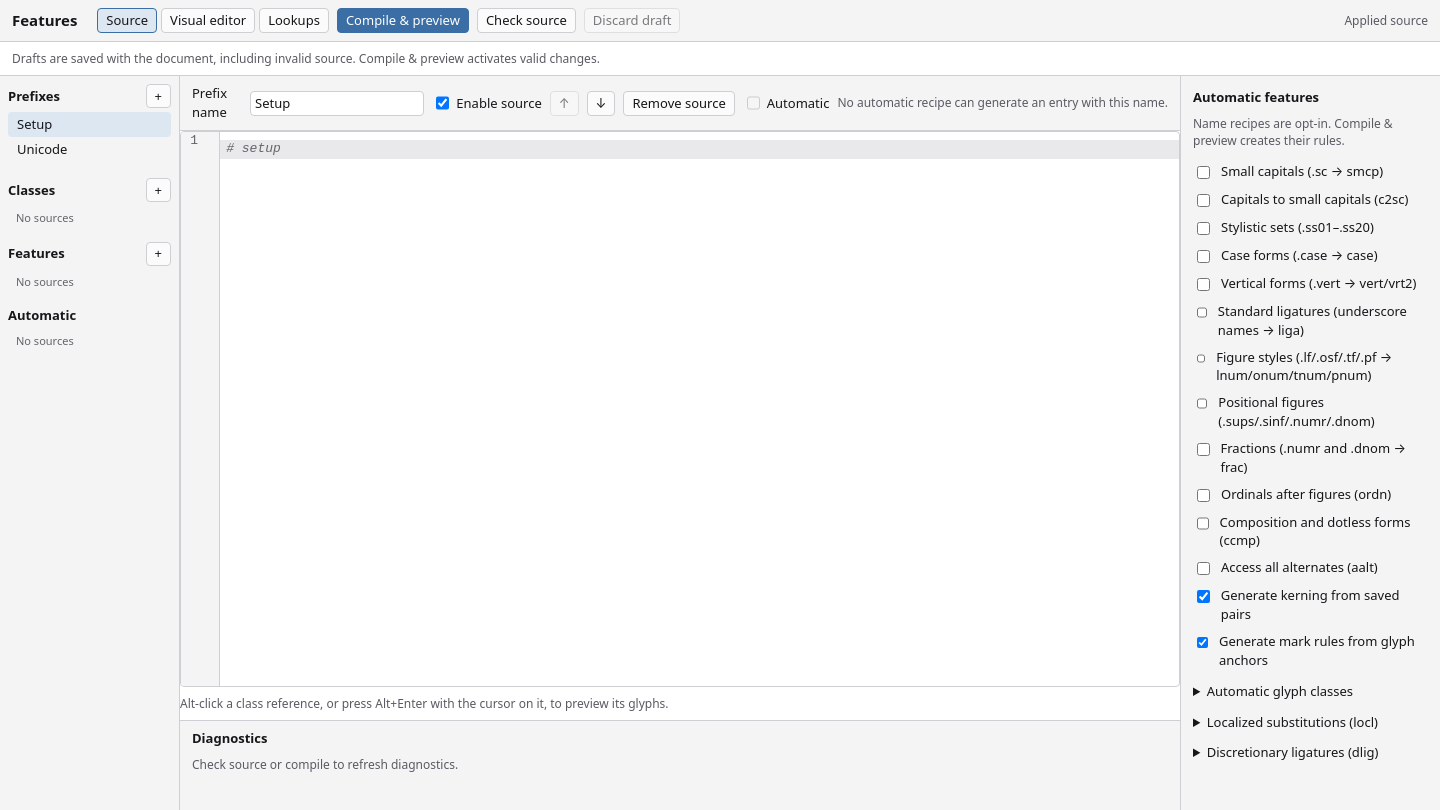
Scenario: FeaturesView › shows generated validation source read-only before activation
The width and height of the screenshot is (1440, 810).
Expected: the field named "Feature source code" is shown, [220,140,1179,159]
Click the button "Check source".
click(526, 20)  # box [477,8,576,33]
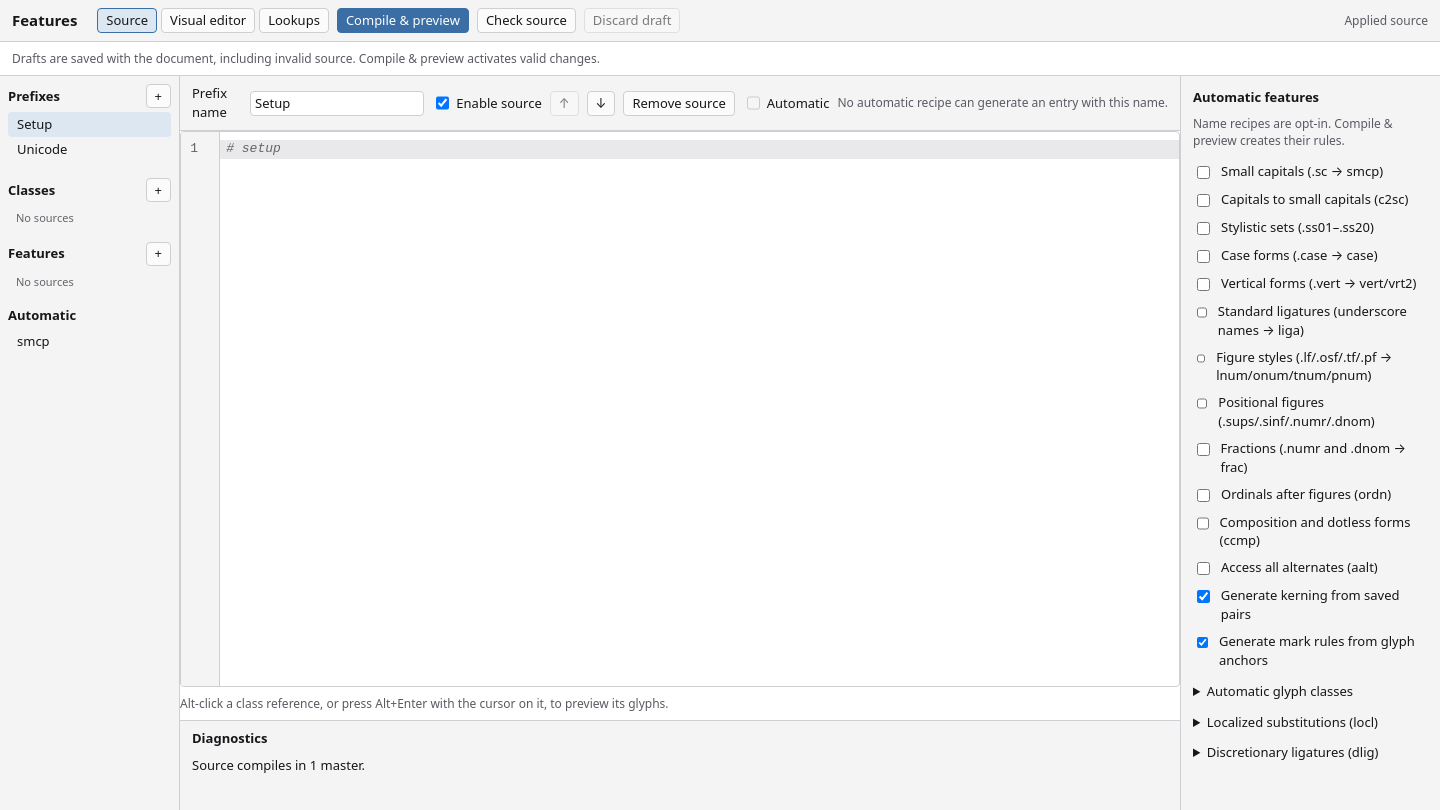
Click the button "smcp".
click(90, 341)  # box [8,329,171,353]
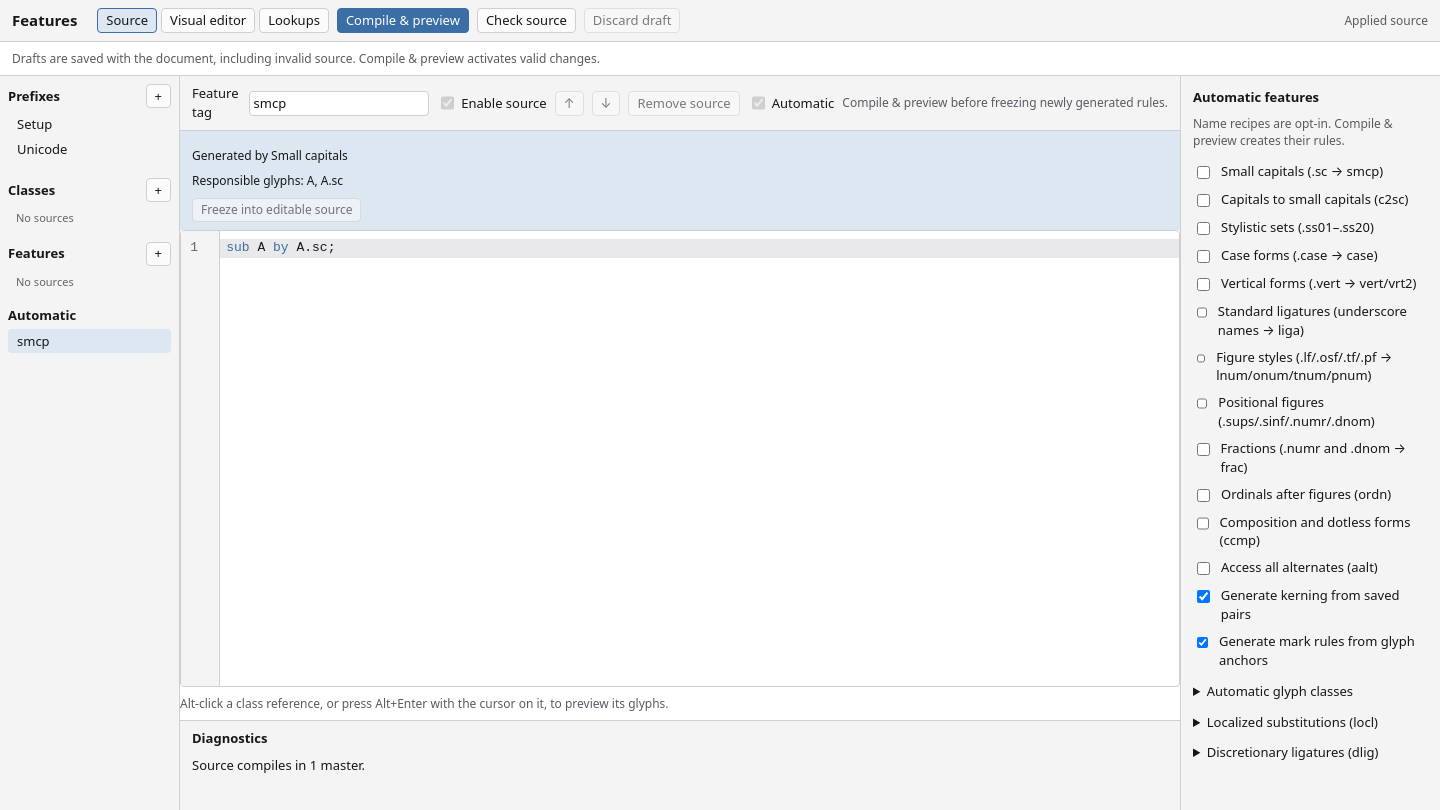
Result: the element showing "sub A by A.sc;" is shown at [220,239,1179,258]
Result: the button "Freeze into editable source" is disabled at [192,198,362,222]
